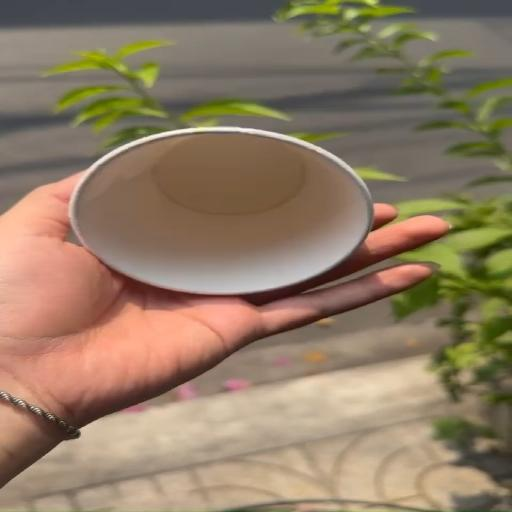Ly_giay: (69, 127, 373, 296)
